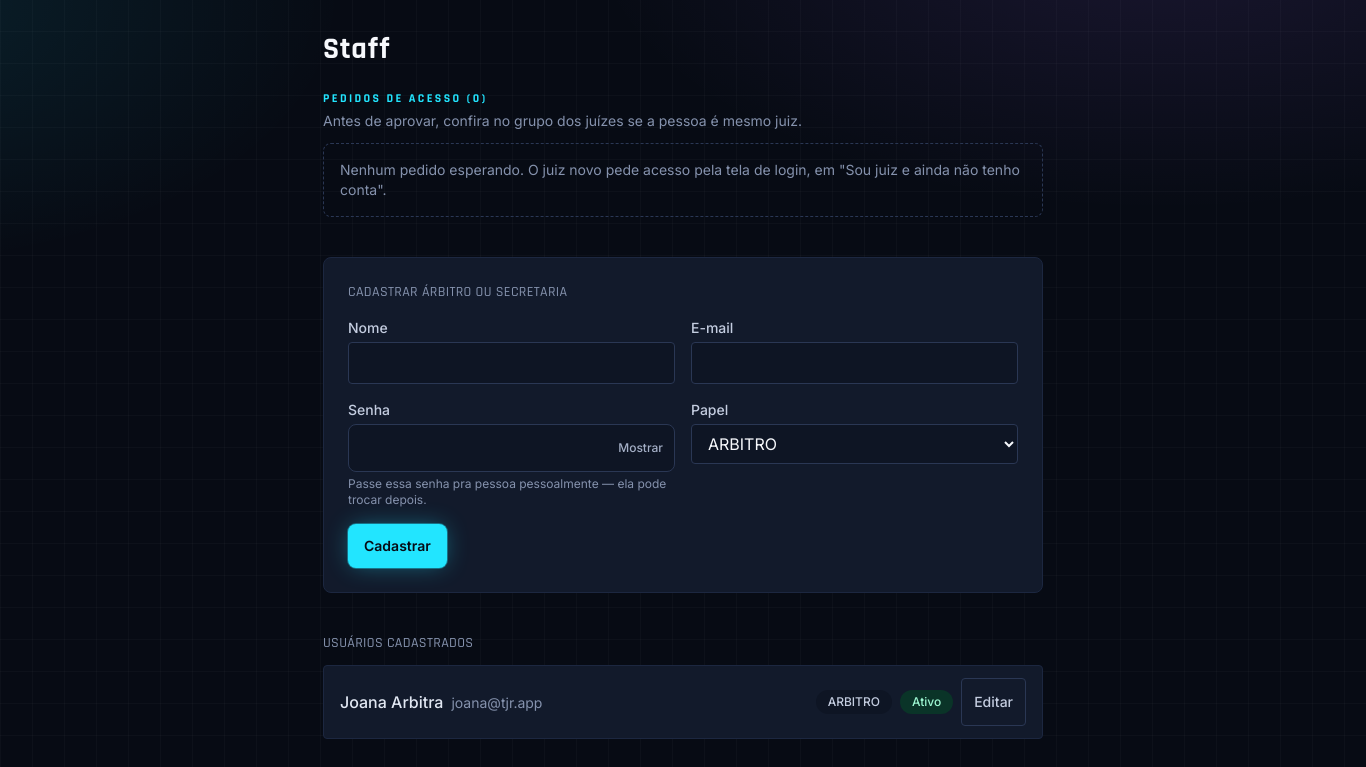
UsuarioListPage › editar usuario › mostra o erro quando a API recusa (ex.: tentar se desativar)
Click the button "Editar" at (994, 702), box [961,678,1026,726]
(page scrolled)
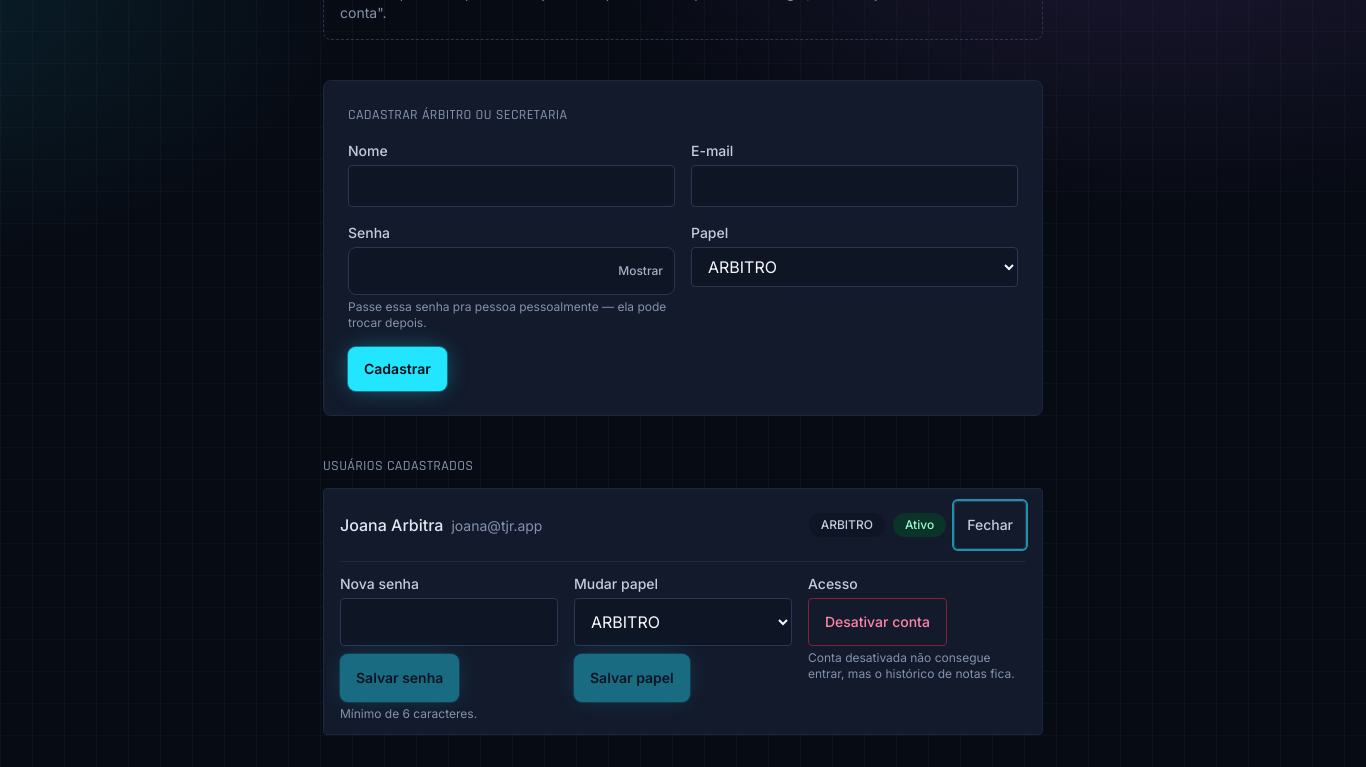
Click the button "Desativar conta" at (877, 622), box [808,598,947,646]
(page scrolled)
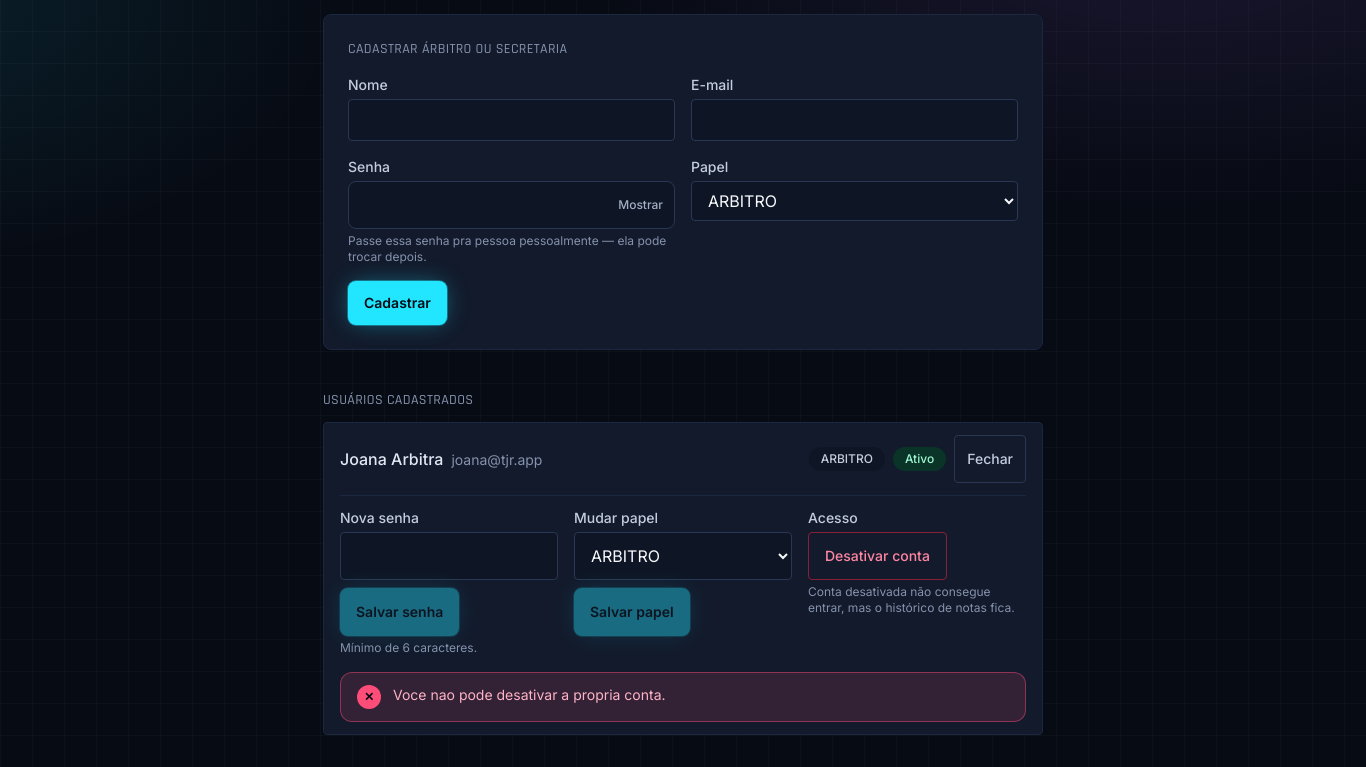
Now the text "Voce nao pode desativar a propria conta." is shown, box [393,686,666,703]
